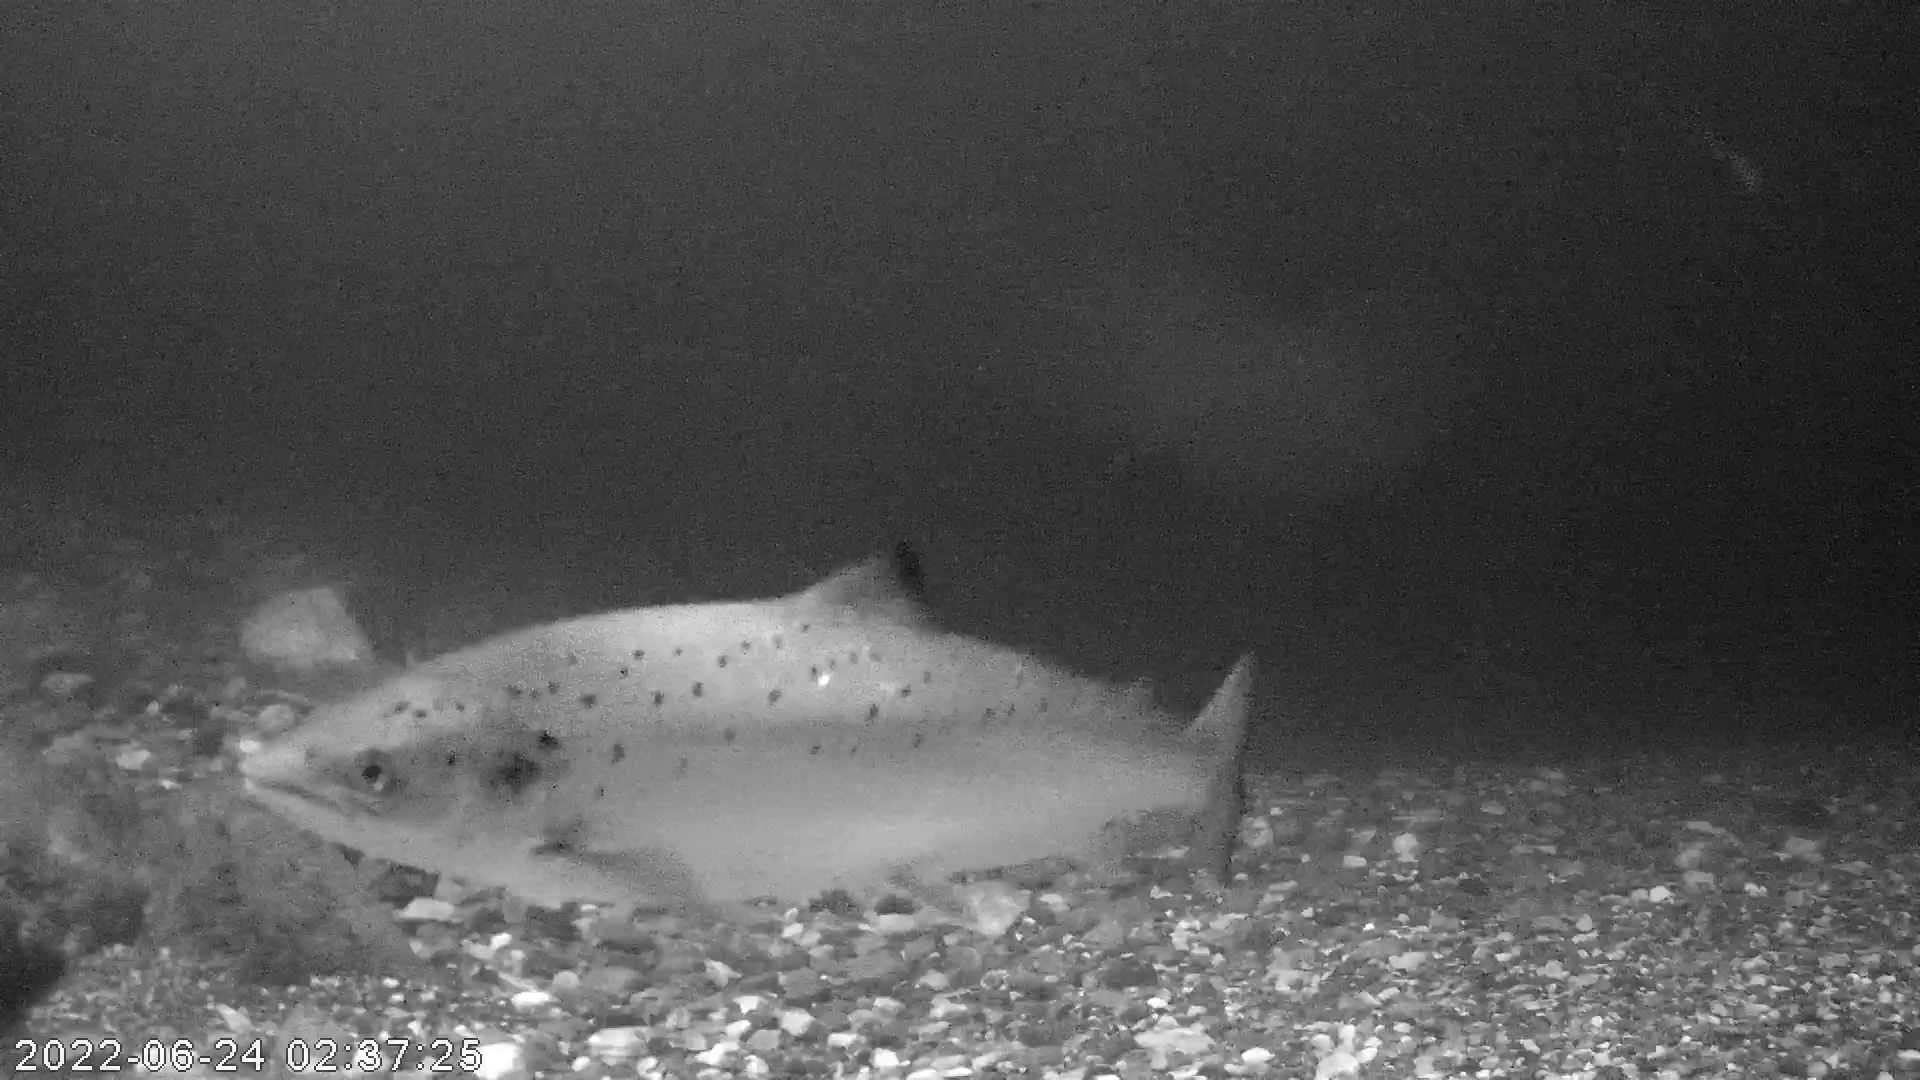salmon: (233, 531, 1259, 928)
